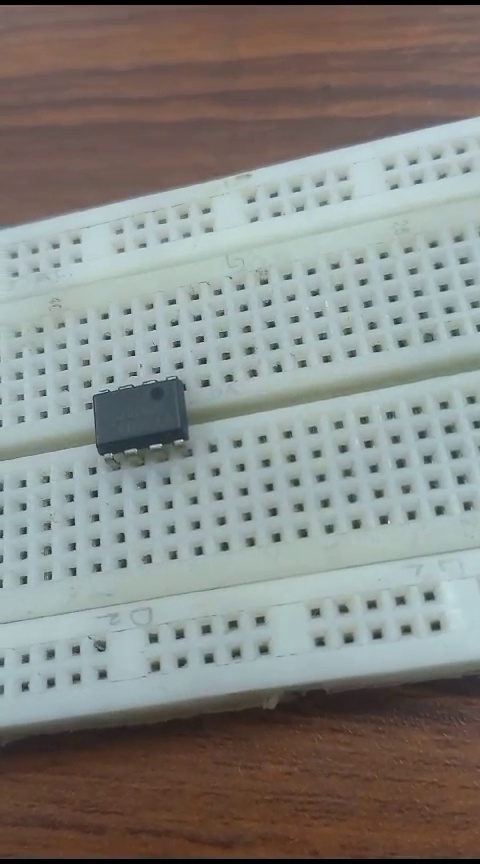IC: (78, 377, 211, 469)
